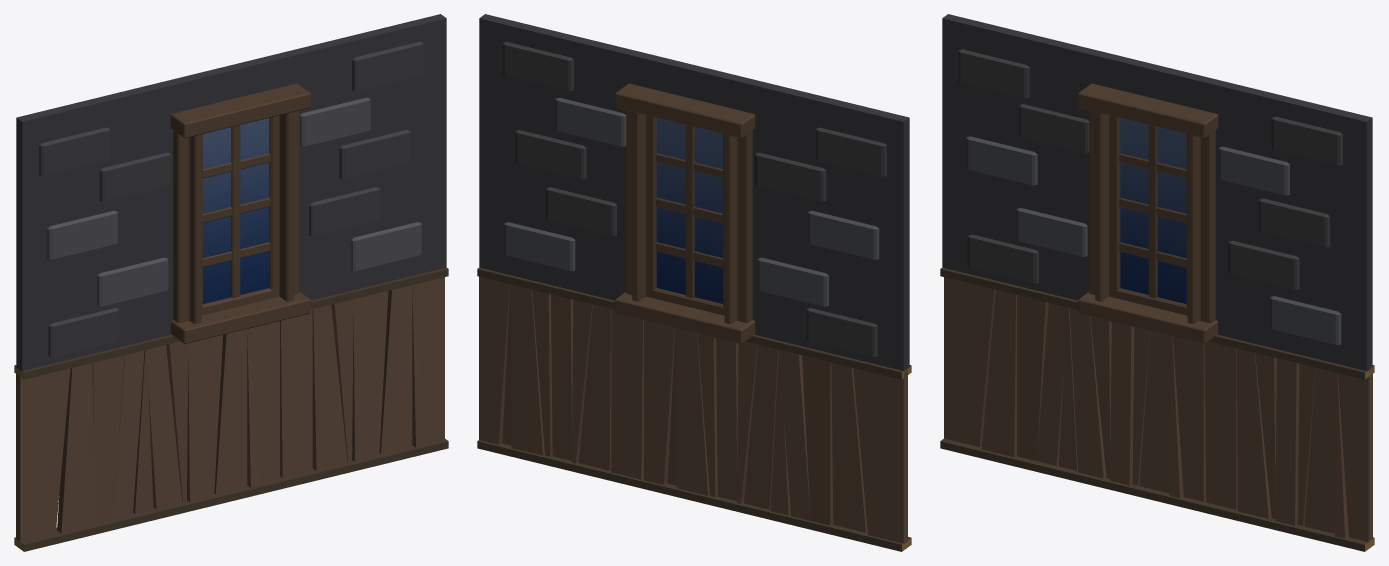
Rendered from Wall_2D_Window_6m.fbx.
The picture shows the model from 3 angles, left to right: view 1: azimuth 30°, elevation 25°; view 2: azimuth 150°, elevation 25°; view 3: azimuth 330°, elevation 25°; orthographic projection.
Visible parts, largest first — view 1: pCube2422; view 2: pCube2422; view 3: pCube2422.
Part boxes in pixels (<box>): pCube2422: <box>14,14,448,551</box>; pCube2422: <box>477,14,911,551</box>; pCube2422: <box>940,14,1374,551</box>.
Bounding box in the file's own units: 600 × 579 × 80.
